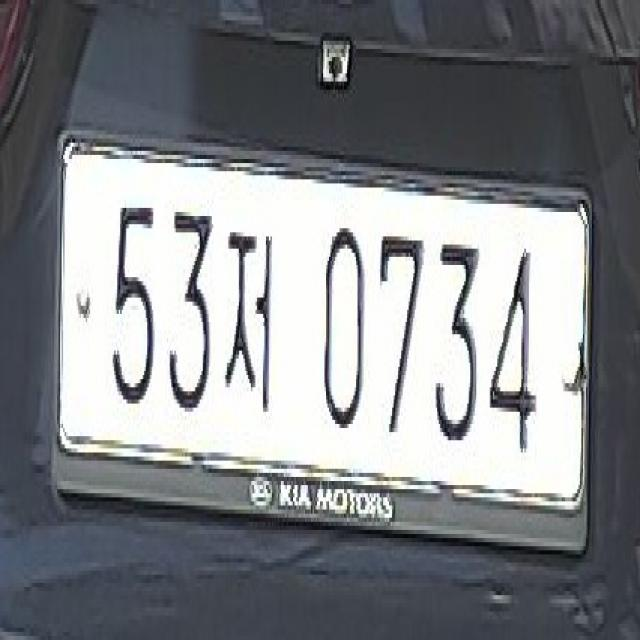0: (310, 195, 377, 452)
3: (159, 175, 215, 424), (432, 212, 483, 457)
4: (485, 220, 541, 485)
5: (106, 183, 158, 416)
7: (370, 188, 425, 452)
jeo: (218, 204, 282, 424)
license_plate: (54, 126, 594, 591)
